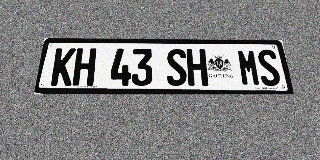3: (131, 49, 152, 86)
4: (110, 48, 132, 86)
H: (72, 48, 97, 86), (186, 49, 208, 86)
K: (50, 48, 76, 86)
M: (237, 49, 262, 86)
S: (256, 50, 282, 86), (166, 49, 187, 86)
